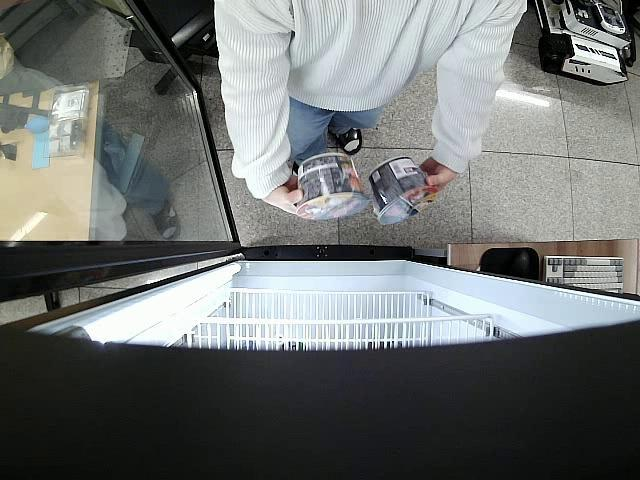07_buldak_L: (297, 150, 372, 223), (366, 154, 438, 226)
